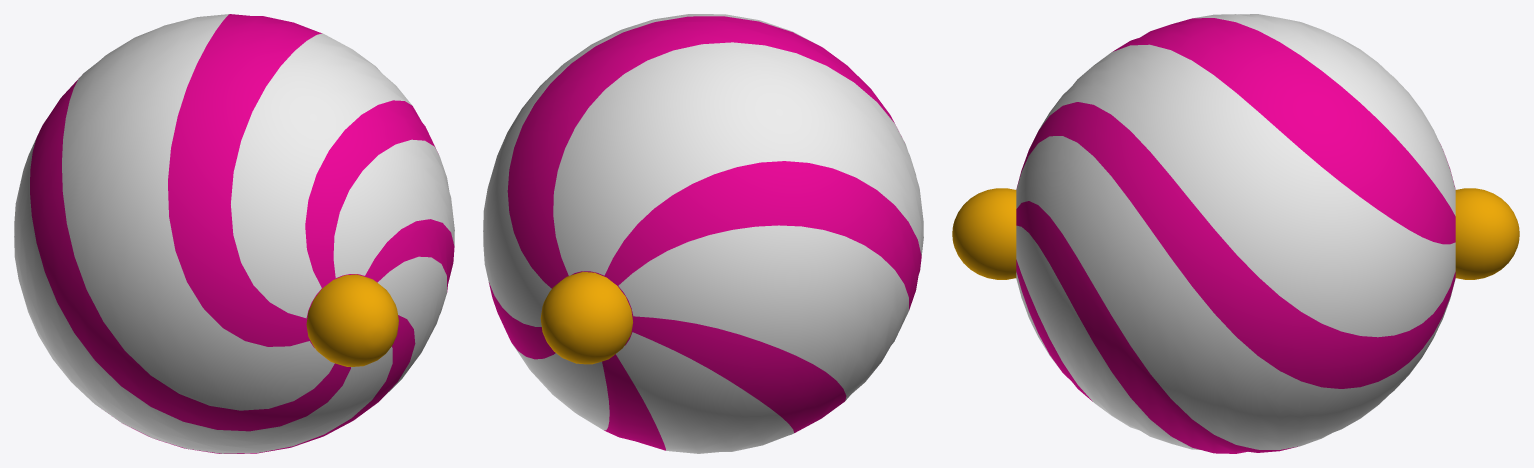
File: CARAMELO 2.fbx
The picture shows the model from 3 angles, left to right: view 1: azimuth 30°, elevation 25°; view 2: azimuth 150°, elevation 25°; view 3: azimuth 270°, elevation 25°; orthographic projection.
Visible parts, largest first — view 1: Caramelo 1.015; view 2: Caramelo 1.015; view 3: Caramelo 1.015.
Part boxes in pixels (x1=…): Caramelo 1.015: x1=14, y1=14, x2=454, y2=453; Caramelo 1.015: x1=483, y1=14, x2=923, y2=453; Caramelo 1.015: x1=952, y1=14, x2=1519, y2=453.
Size of the model in its own units: 655 by 655 by 843.
